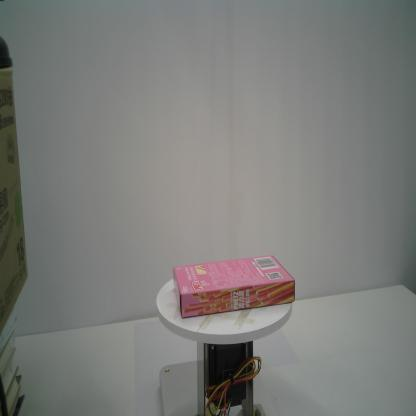Dessert: (172, 255, 296, 319)
